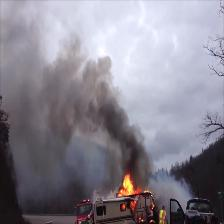fire: (120, 176, 136, 195)
smoke: (50, 84, 112, 117), (114, 131, 140, 166)
